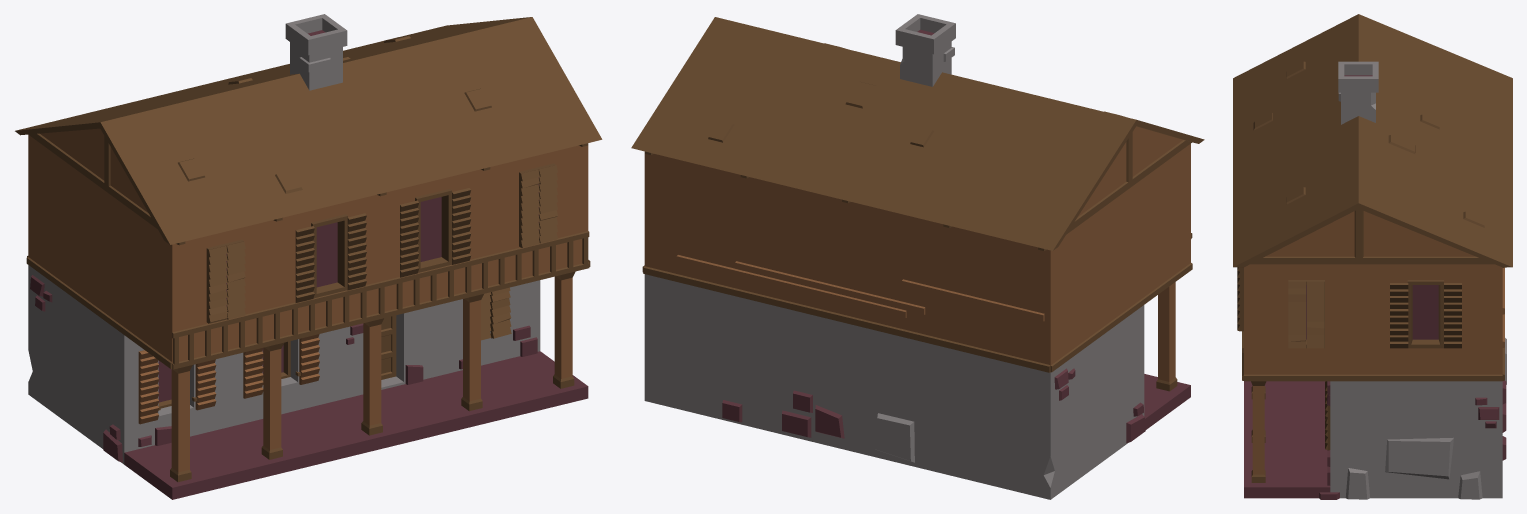
File: house-pirate-medium.fbx
3 views of the same model, side by side, from view 1: azimuth 30°, elevation 25°; view 2: azimuth 150°, elevation 25°; view 3: azimuth 270°, elevation 25° (orthographic). The views are drawn at different scales.
Parts seen in each view (by area): view 1: house-pirate-medium; view 2: house-pirate-medium; view 3: house-pirate-medium.
Part boxes in pixels (x1,y1,x2,y2): house-pirate-medium: [15, 14, 602, 499]; house-pirate-medium: [631, 14, 1204, 499]; house-pirate-medium: [1233, 14, 1512, 499].
Bounding box in the file's own units: 10.39 × 8.62 × 6.49.
